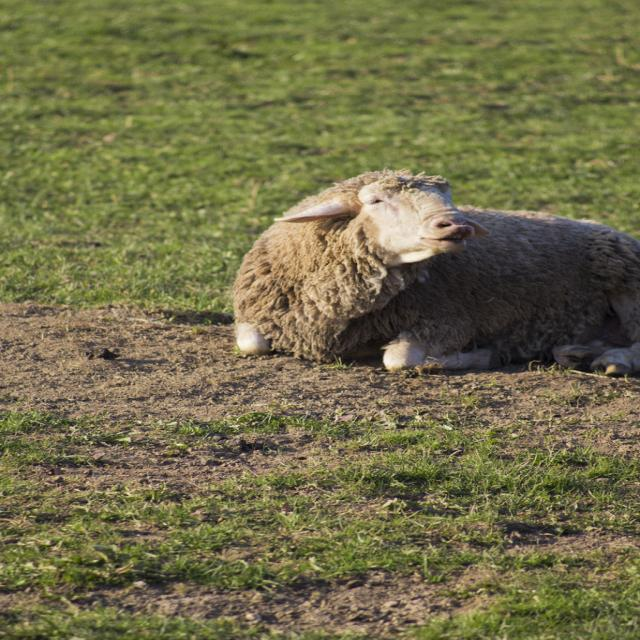Sheep: (224, 171, 636, 371)
